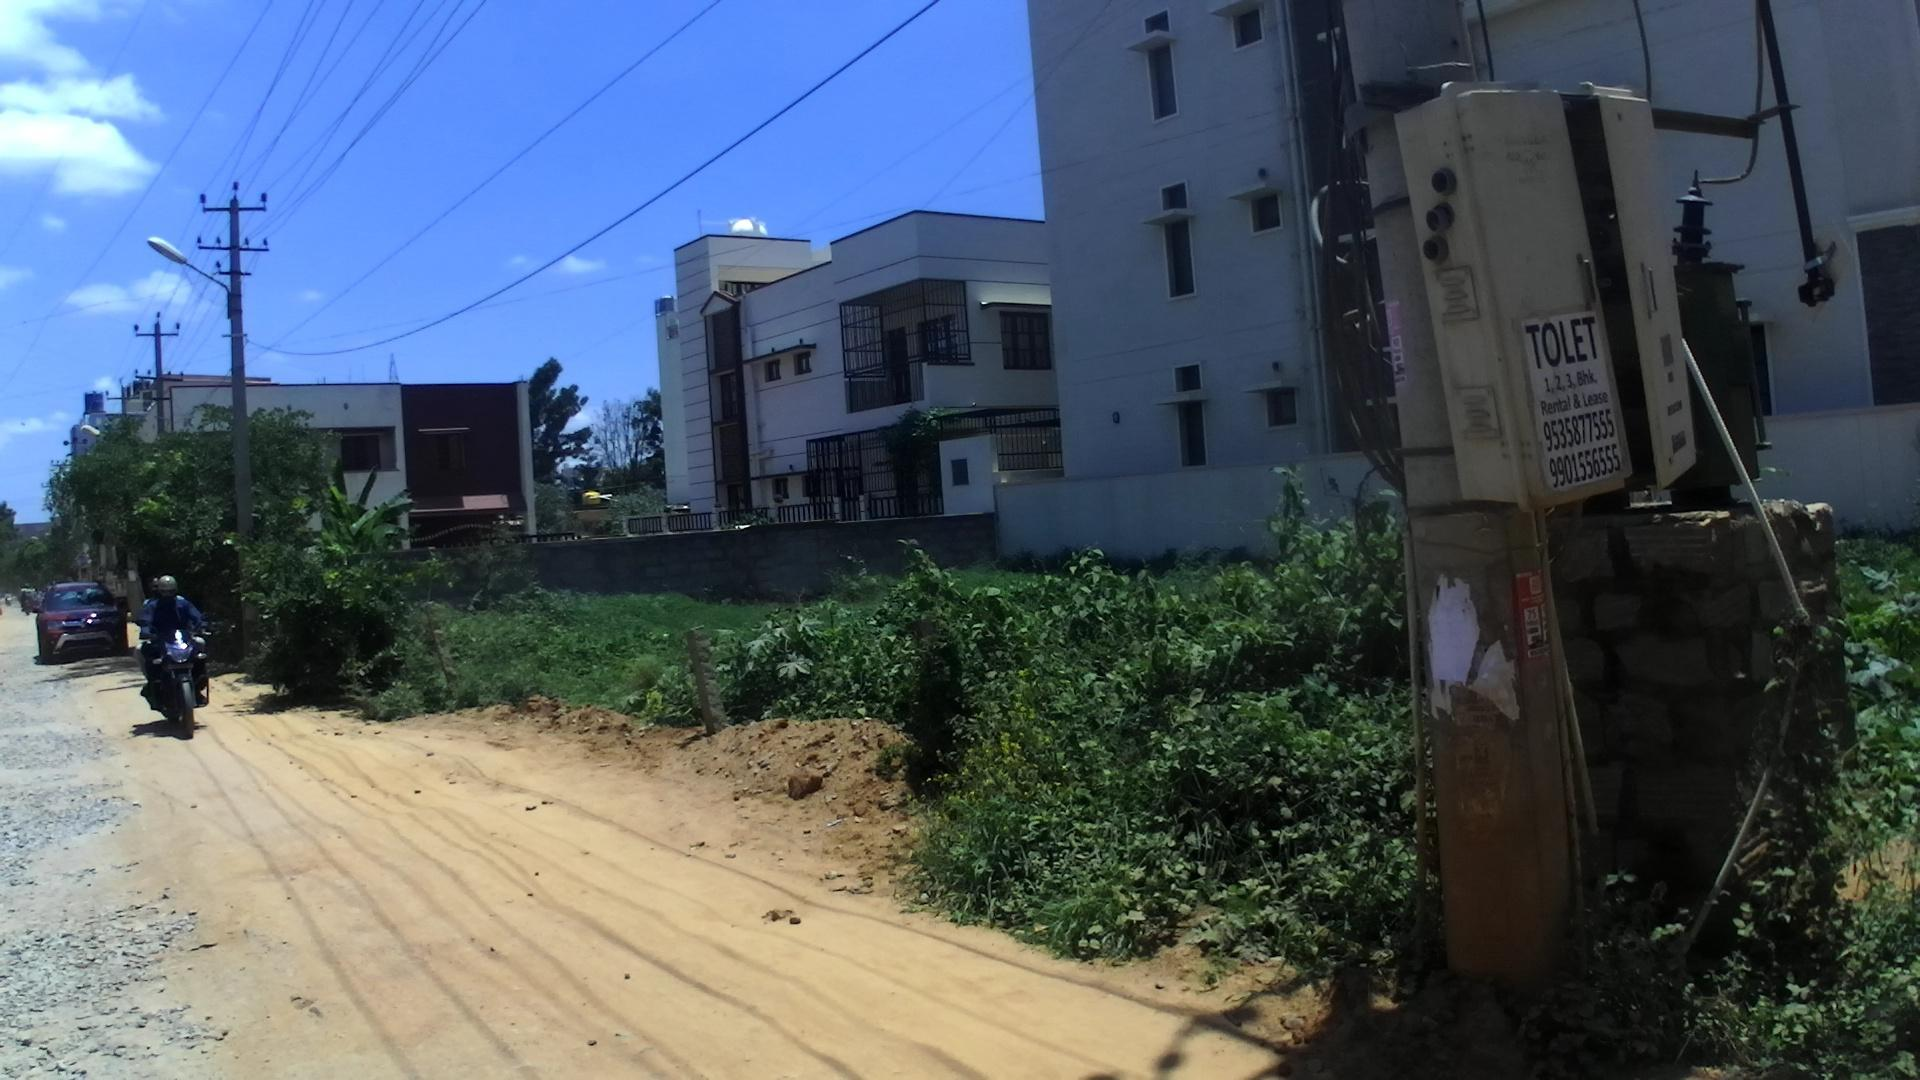off: (0, 82, 1920, 1080)
